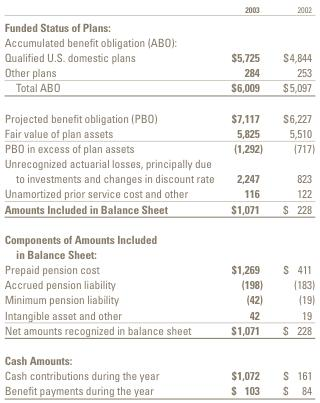table: (3, 3, 314, 397)
table column: (3, 3, 222, 397), (222, 3, 272, 397), (272, 3, 314, 397)
table column header: (3, 3, 314, 16)
table projected row header: (3, 223, 314, 261), (3, 344, 314, 367), (3, 16, 314, 34), (3, 34, 314, 49)
table row: (3, 223, 314, 261), (3, 155, 314, 185), (3, 79, 314, 102), (3, 102, 314, 125), (3, 200, 314, 223), (3, 344, 314, 367), (3, 322, 314, 344), (3, 16, 314, 34), (3, 306, 314, 322), (3, 34, 314, 49), (3, 49, 314, 64), (3, 64, 314, 79), (3, 125, 314, 140), (3, 140, 314, 155), (3, 185, 314, 200), (3, 261, 314, 276), (3, 276, 314, 291), (3, 291, 314, 306), (3, 367, 314, 382), (3, 382, 314, 397), (3, 3, 314, 16)
